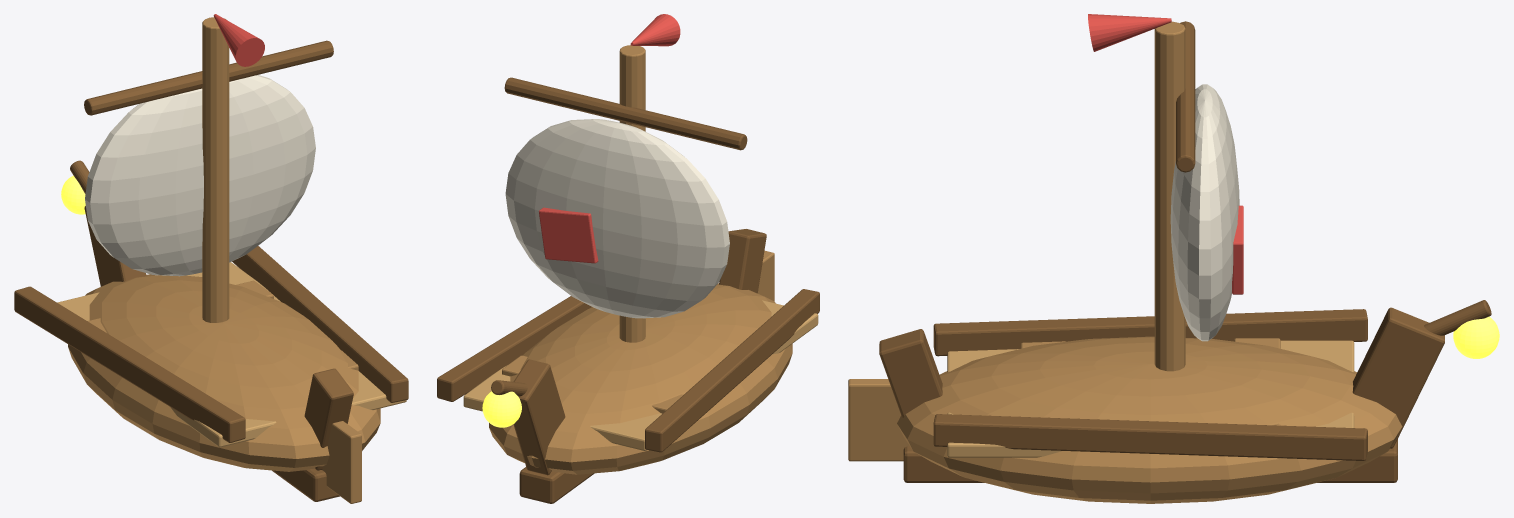
File: master_boat_lv1.glb
The picture shows the model from 3 angles, left to right: view 1: azimuth 30°, elevation 25°; view 2: azimuth 150°, elevation 25°; view 3: azimuth 270°, elevation 25°; orthographic projection. The views are drawn at different scales.
Visible parts, largest first — view 1: HullBelly, BillowingSail, BoatMast, Gunwale_-1, Gunwale_1, Yardarm, DeckPlanks, RudderBlade, SternPost, MastPennant, BowStem, Keel (+1 smaller); view 2: BillowingSail, HullBelly, Gunwale_-1, Yardarm, Gunwale_1, BowStem, SailPatch, DeckPlanks, BoatMast, SternPost, Keel, BowLantern (+4 smaller); view 3: HullBelly, Gunwale_1, BillowingSail, Gunwale_-1, BoatMast, BowStem, RudderBlade, DeckPlanks, SternPost, Keel, Yardarm, MastPennant (+3 smaller).
Boxes of the visible parts, <box> form: HullBelly: <box>68,274,380,471</box>; BillowingSail: <box>85,75,315,276</box>; BoatMast: <box>202,17,229,322</box>; Gunwale_-1: <box>14,286,245,442</box>; Gunwale_1: <box>232,246,408,402</box>; Yardarm: <box>84,40,333,115</box>; DeckPlanks: <box>57,262,406,447</box>; RudderBlade: <box>322,421,361,503</box>; SternPost: <box>304,368,353,470</box>; MastPennant: <box>213,14,264,66</box>; BowStem: <box>84,206,146,286</box>; Keel: <box>272,468,339,501</box>; BillowingSail: <box>505,119,729,318</box>; HullBelly: <box>489,283,792,474</box>; Gunwale_-1: <box>645,289,819,452</box>; Yardarm: <box>504,77,747,150</box>; Gunwale_1: <box>437,296,591,401</box>; BowStem: <box>513,359,565,475</box>; SailPatch: <box>539,207,598,263</box>; DeckPlanks: <box>463,300,818,450</box>; BoatMast: <box>619,45,645,342</box>; SternPost: <box>719,229,766,293</box>; Keel: <box>519,467,594,503</box>; BowLantern: <box>482,391,521,427</box>; HullBelly: <box>897,336,1402,503</box>; Gunwale_1: <box>933,414,1367,460</box>; BillowingSail: <box>1170,84,1239,341</box>; Gunwale_-1: <box>933,309,1367,356</box>; BoatMast: <box>1154,21,1185,371</box>; BowStem: <box>1352,307,1444,448</box>; RudderBlade: <box>848,379,909,461</box>; DeckPlanks: <box>947,340,1354,457</box>; SternPost: <box>879,329,942,417</box>; Keel: <box>903,439,1397,482</box>; Yardarm: <box>1176,21,1195,172</box>; MastPennant: <box>1088,14,1171,51</box>.
Size of the model in its own units: 1.65 by 2.62 by 3.36.
